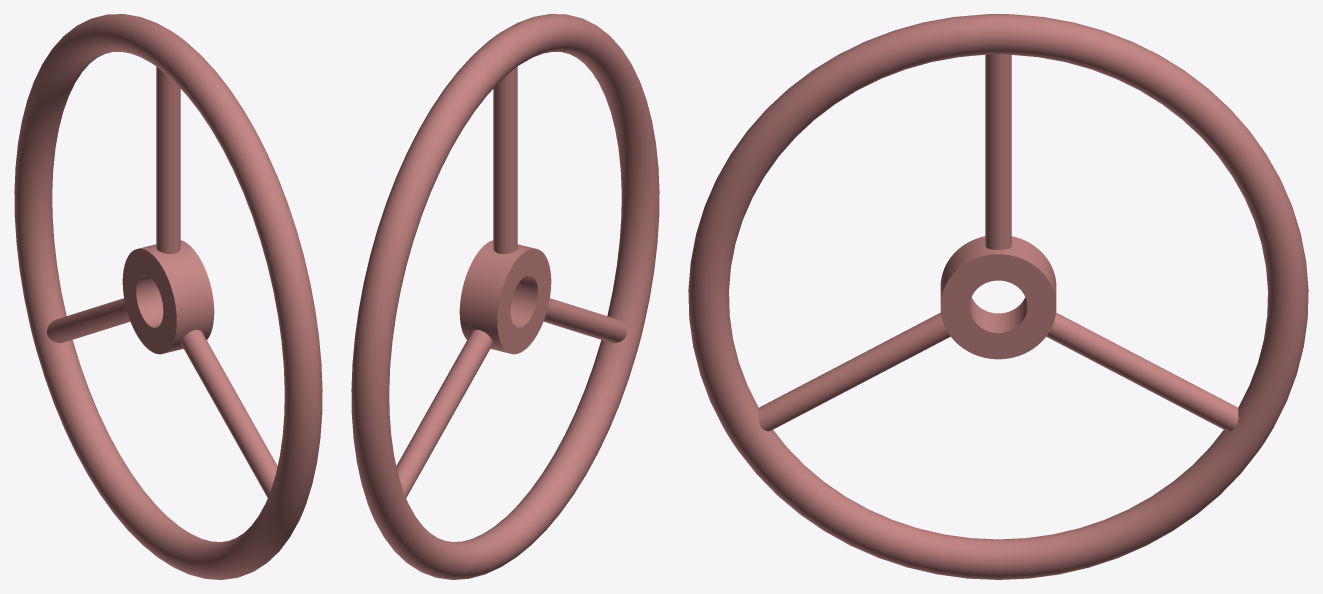
The model's file is step_19.glb.
The picture shows the model from 3 angles, left to right: view 1: azimuth 30°, elevation 25°; view 2: azimuth 150°, elevation 25°; view 3: azimuth 270°, elevation 25°; orthographic projection. The views are drawn at different scales.
Visible parts, largest first — view 1: part__8" gate valve handwheel; view 2: part__8" gate valve handwheel; view 3: part__8" gate valve handwheel.
Boxes of the visible parts, x1,y1,x2,y2 form: part__8" gate valve handwheel: (14,14,322,579); part__8" gate valve handwheel: (351,14,659,579); part__8" gate valve handwheel: (688,14,1308,579).
Size of the model in its own units: 17.53 by 234 by 234.
